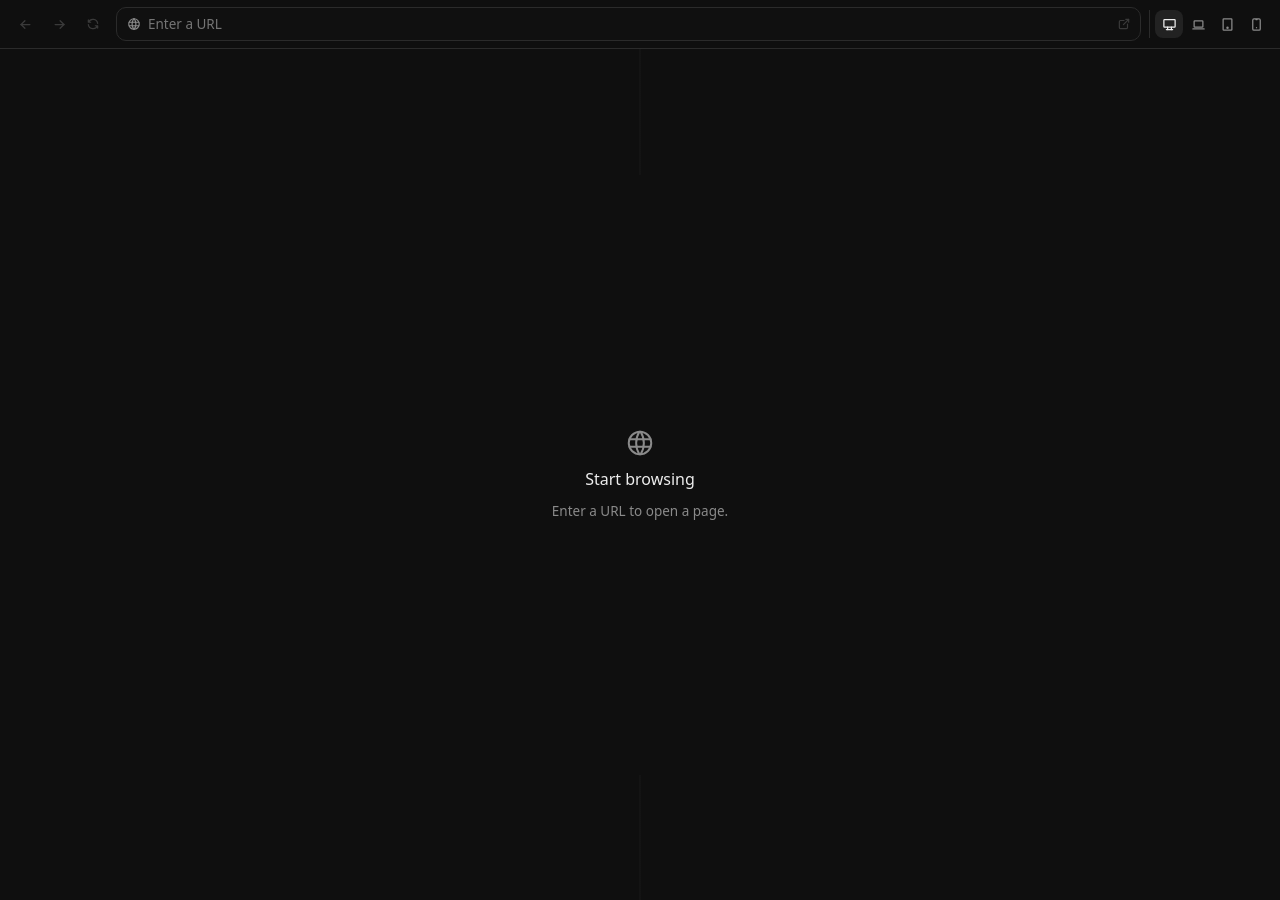
Test: WorkspaceBrowser › leaves an address the user is typing in place when the page navigates
Type "example.com/first" into the field named "Browser address" at [626, 24], box [148,14,1103,34]
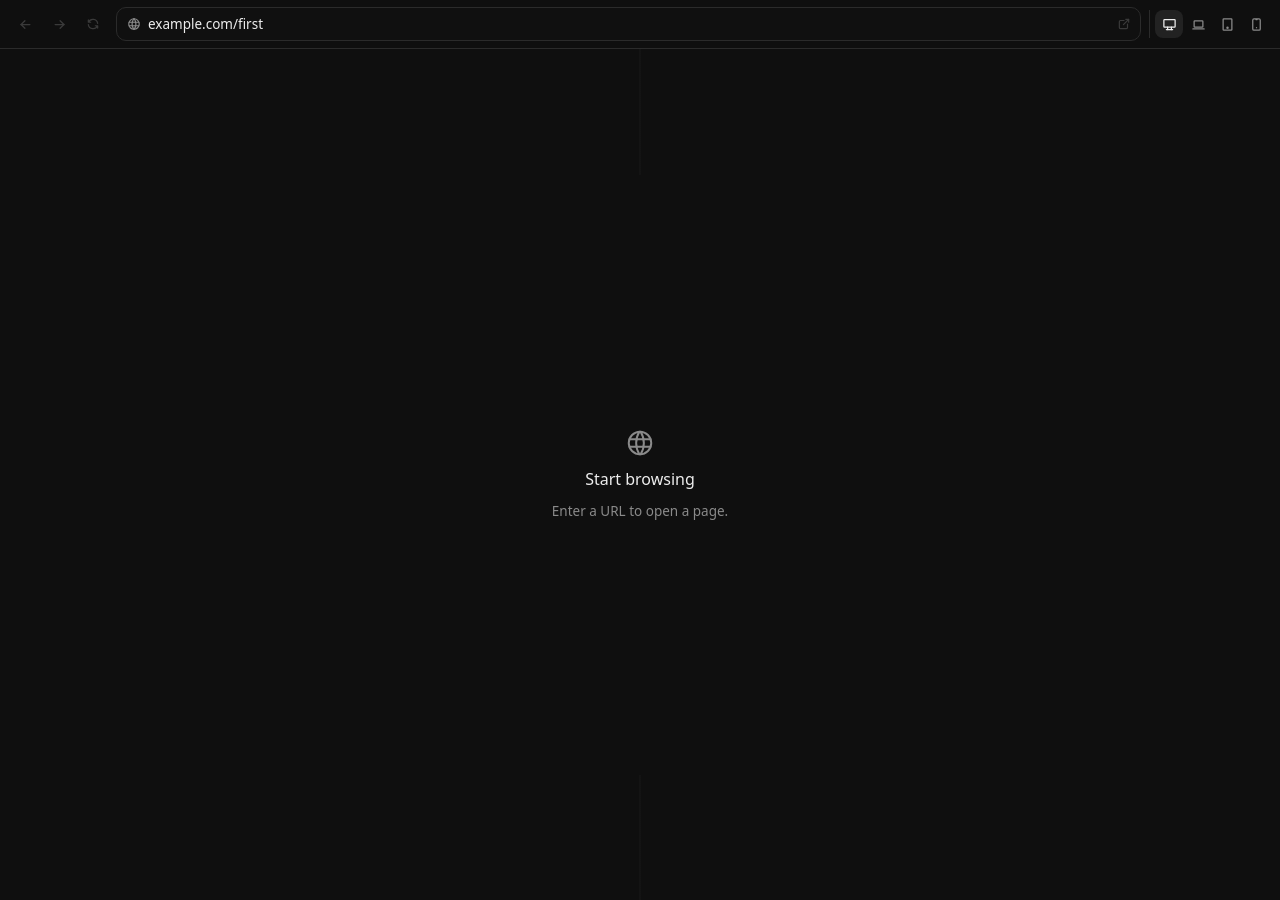
Submit the form named "Browser address", box [116,7,1141,41]
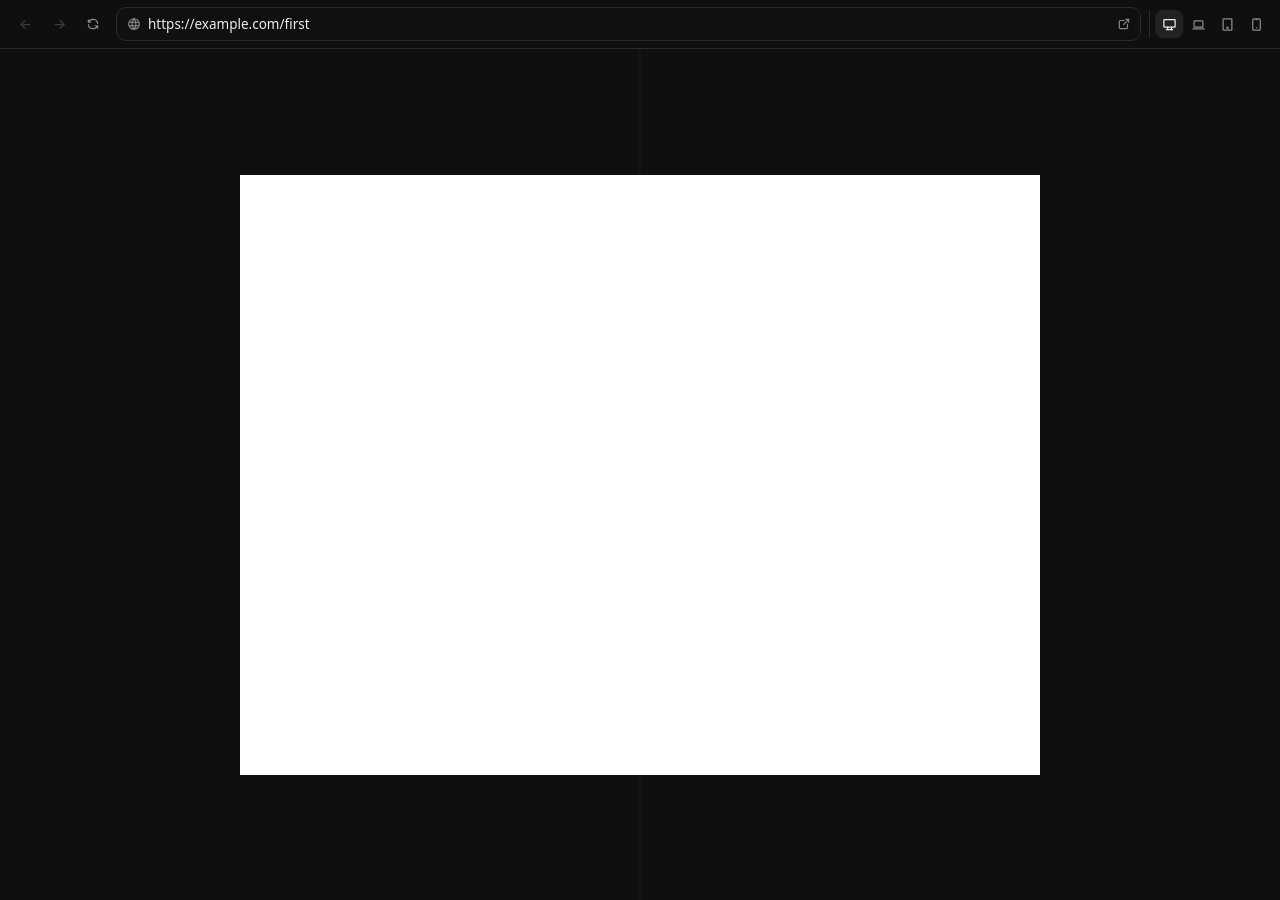
Expected: the field named "Browser address" holds "https://example.com/first"
Replace the text in the field named "Browser address" with "example.com/sec" at [626, 24], box [148,14,1103,34]
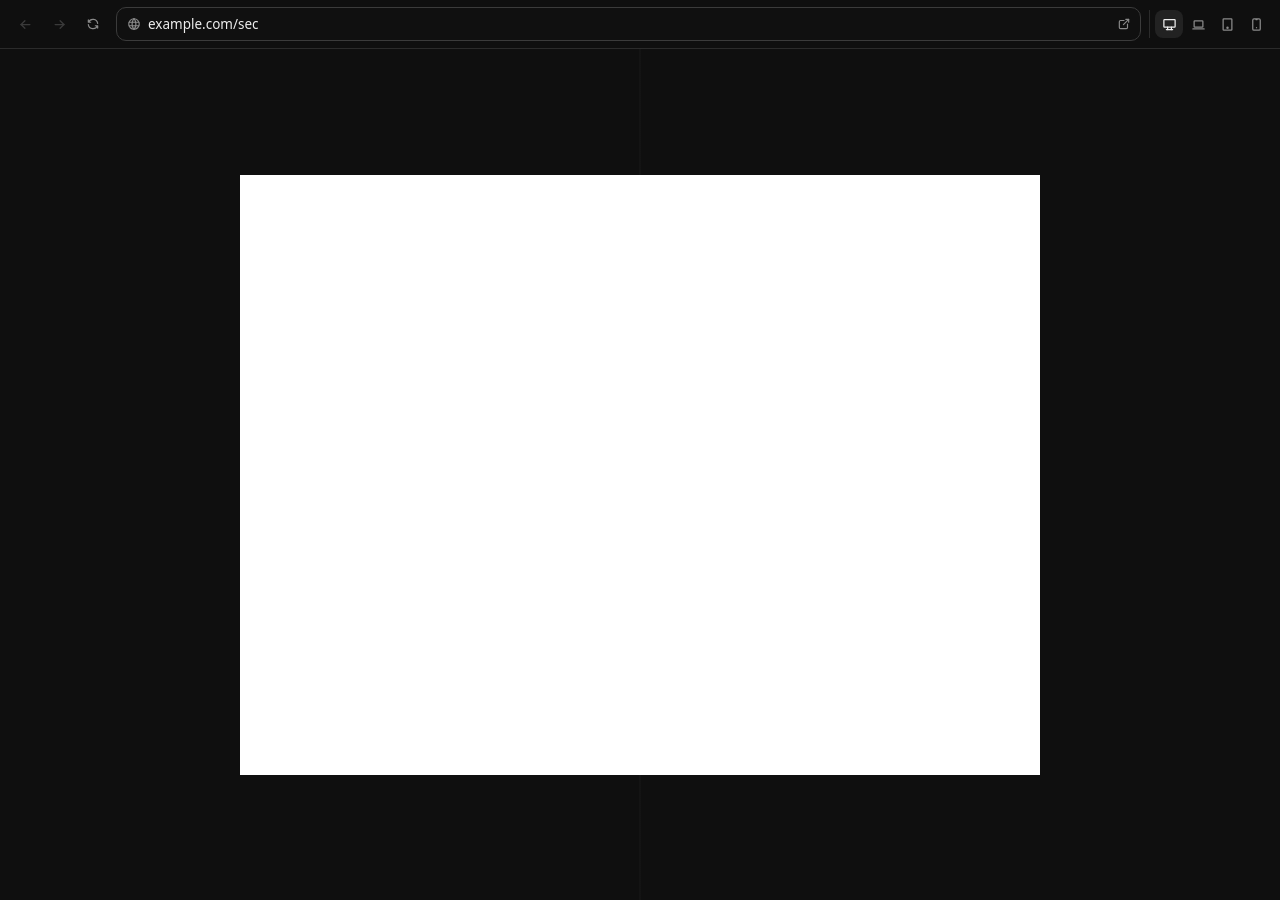
Leave the field named "Browser address", box [148,14,1103,34]
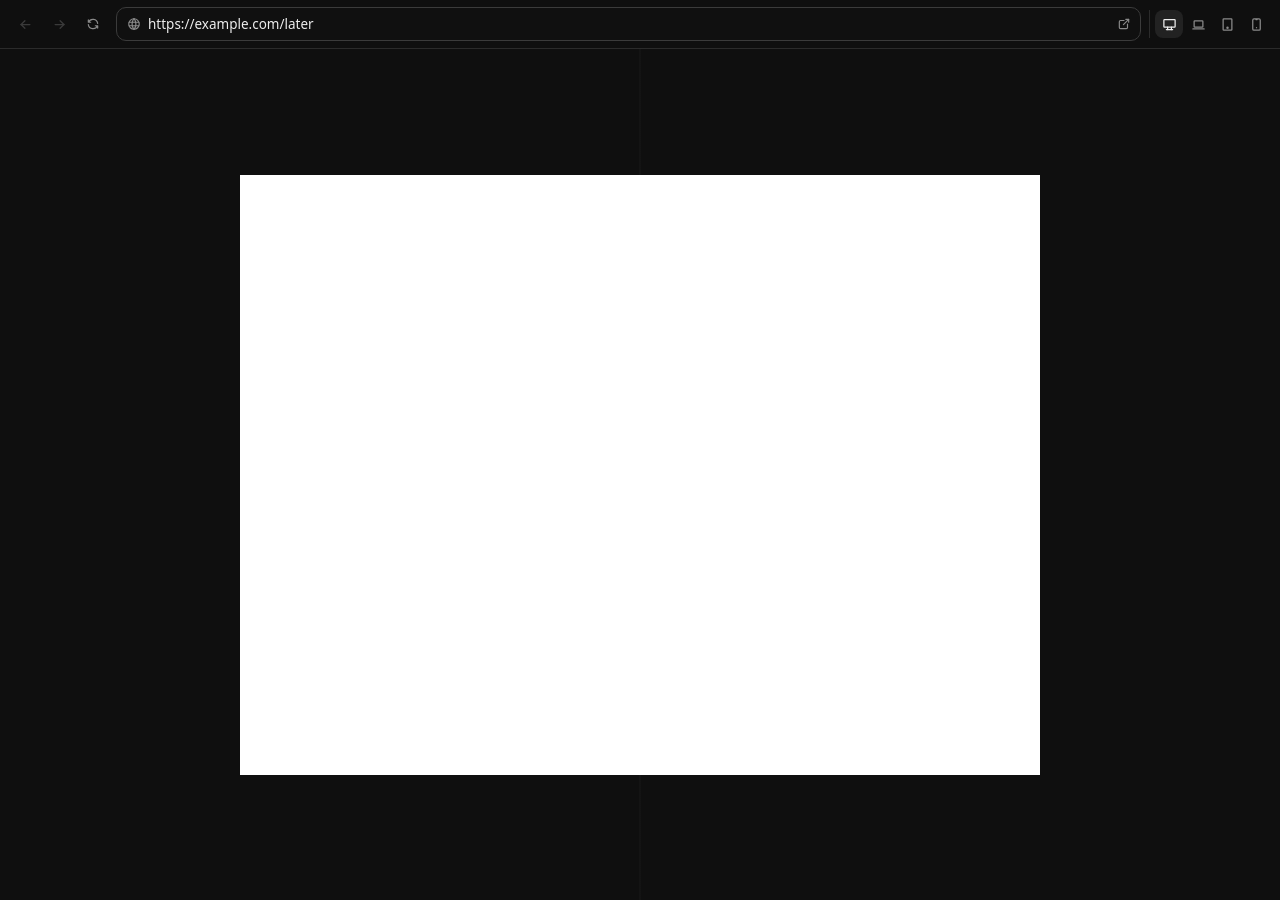
Expected: the field named "Browser address" holds "https://example.com/later", [148,14,1103,34]
